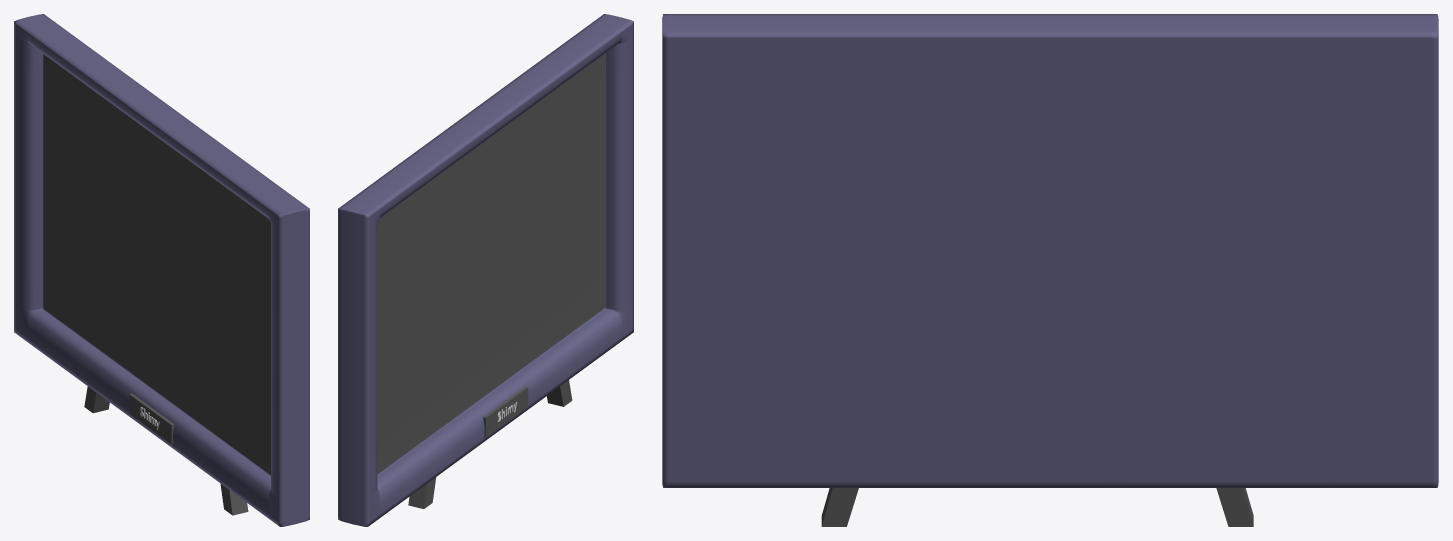
The model's file is television.fbx.
The picture shows the model from 3 angles, left to right: view 1: azimuth 30°, elevation 25°; view 2: azimuth 150°, elevation 25°; view 3: azimuth 270°, elevation 25°; orthographic projection. The views are drawn at different scales.
Parts seen in each view (by area): view 1: typeMesh2; view 2: typeMesh2; view 3: typeMesh2.
Part boxes in pixels (x1,y1,x2,y2): typeMesh2: [14, 14, 309, 526]; typeMesh2: [338, 14, 633, 526]; typeMesh2: [662, 14, 1438, 526].
Size of the model in its own units: 0.3473 by 3.55 by 5.02.
